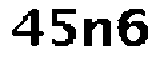4: (10, 2, 47, 49)
5: (49, 3, 78, 49)
6: (115, 1, 152, 51)
n: (81, 18, 114, 50)
